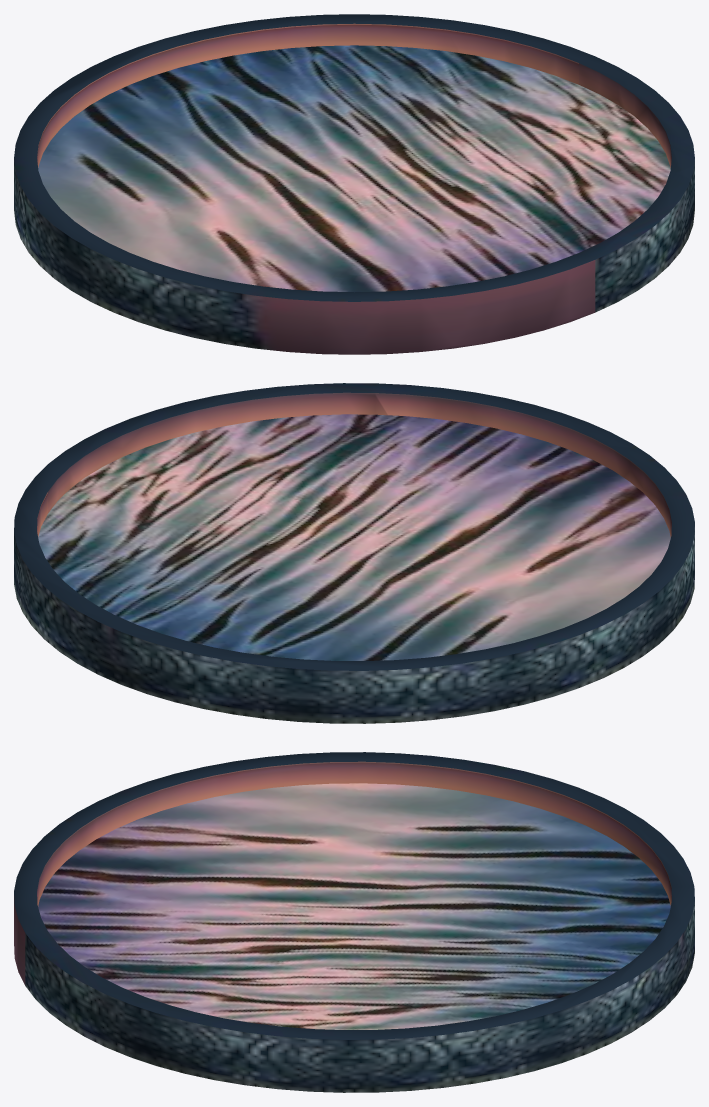
3 renders of one model, top to bottom at view 1: azimuth 30°, elevation 25°; view 2: azimuth 150°, elevation 25°; view 3: azimuth 270°, elevation 25°, orthographic.
Visible parts, largest first — view 1: Disc; view 2: Disc; view 3: Disc.
Part boxes in pixels (x1,y1,x2,y2): Disc: [14, 14, 694, 354]; Disc: [14, 383, 694, 723]; Disc: [14, 752, 694, 1092].
Bounding box in the file's own units: 1.44 × 0.125 × 1.44.
1 material, 1 textured.
